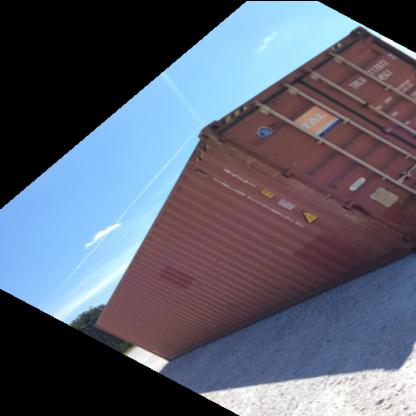Damage: (262, 170, 330, 212), (203, 140, 276, 176), (330, 207, 402, 239)
